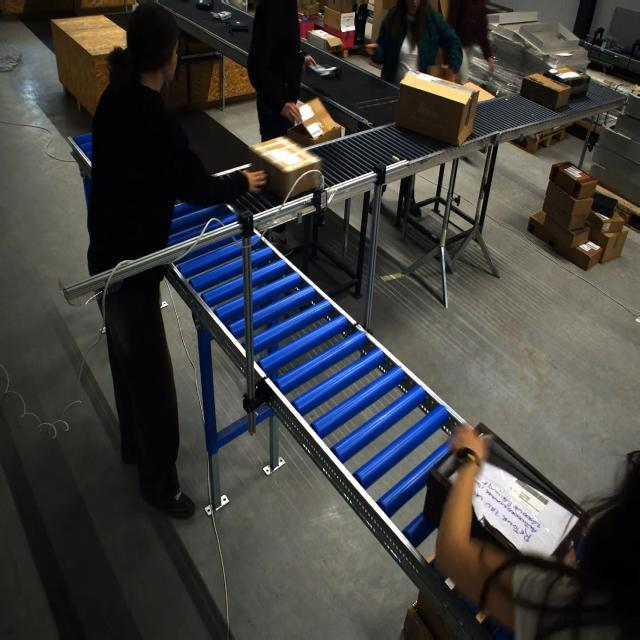box: (424, 431, 586, 557), (395, 69, 479, 147), (247, 138, 319, 206), (286, 96, 337, 147)
product: (227, 20, 249, 32), (210, 10, 232, 20), (196, 0, 213, 10)
